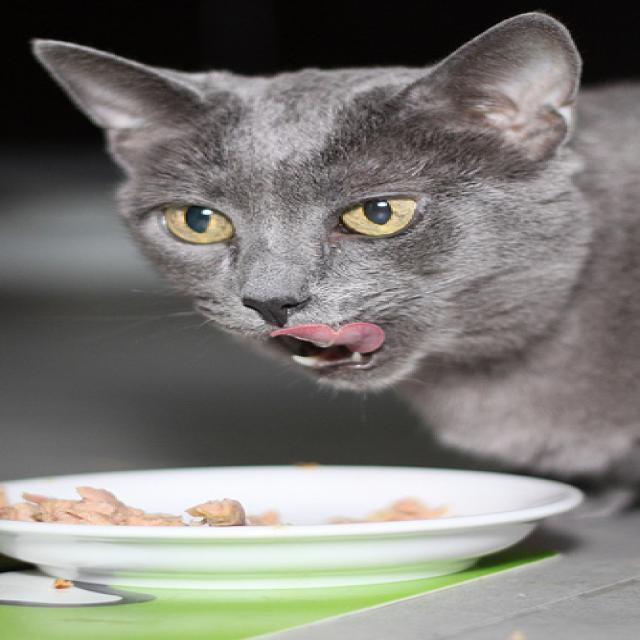Russian_Blue: (29, 10, 577, 389)
